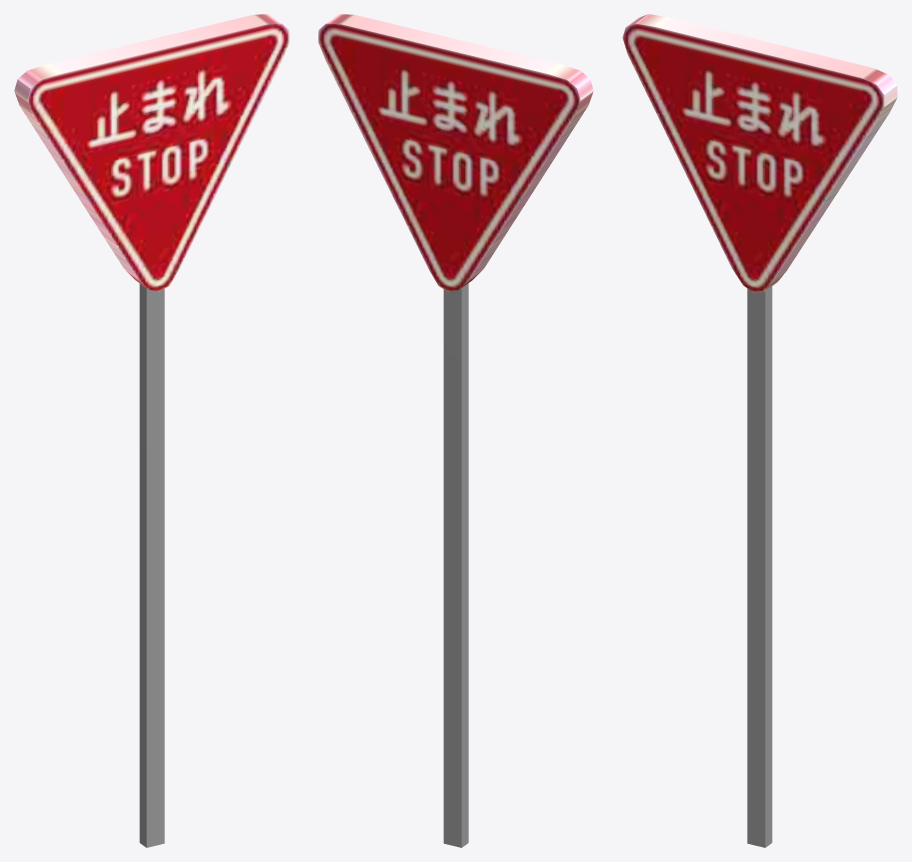
The picture shows the model from 3 angles, left to right: view 1: azimuth 30°, elevation 25°; view 2: azimuth 150°, elevation 25°; view 3: azimuth 330°, elevation 25°; orthographic projection.
Visible parts, largest first — view 1: AsianSlowSign.002; view 2: AsianSlowSign.002; view 3: AsianSlowSign.002.
Boxes of the visible parts, <box> form: AsianSlowSign.002: <box>14,14,289,847</box>; AsianSlowSign.002: <box>318,14,593,847</box>; AsianSlowSign.002: <box>622,14,897,847</box>.
Size of what is drawn, in the model's own units: 0.7022 by 2.04 by 0.0608.
2 materials, 2 textured.
